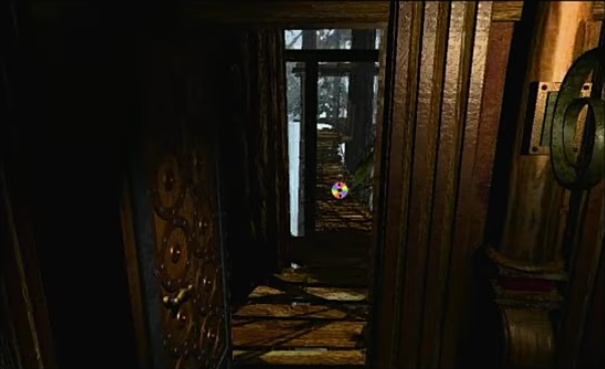Waiting: (328, 179, 351, 200)
